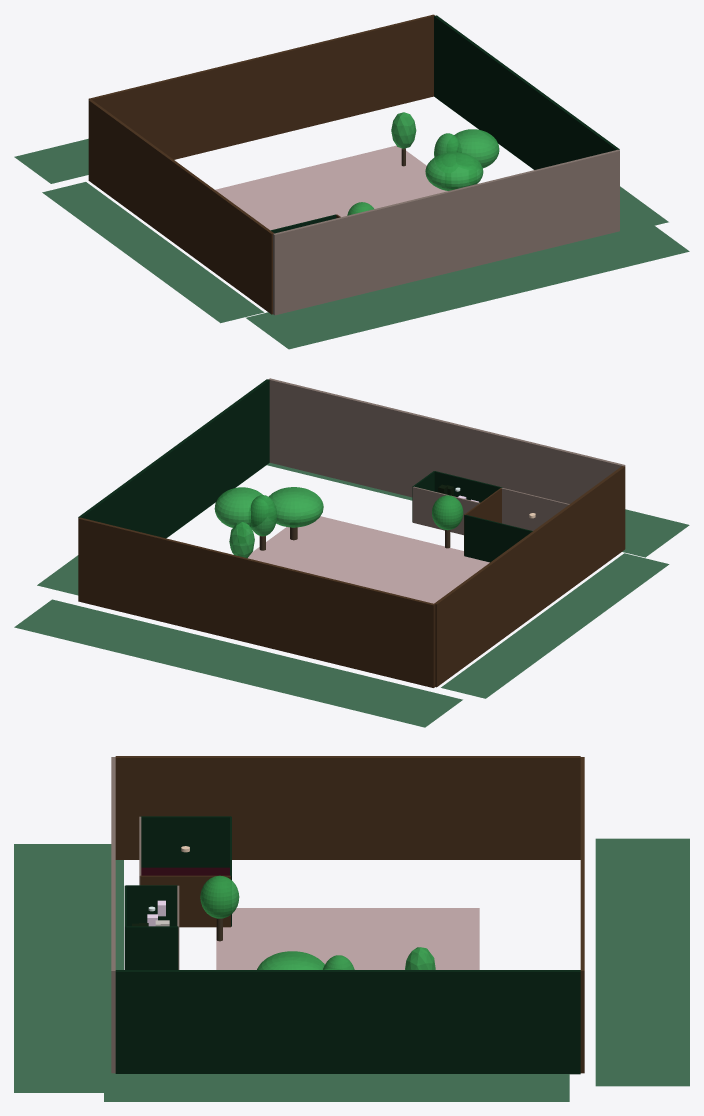
Rendered from ultra_varied_d2b055c2-0c6f-40ce-9988-e74437583a65.obj.
3 renders of one model, top to bottom at view 1: azimuth 30°, elevation 25°; view 2: azimuth 150°, elevation 25°; view 3: azimuth 270°, elevation 25°, orthographic. The views are drawn at different scales.
Parts seen in each view (by area): view 1: ExteriorWall_South, ExteriorWall_North, ExteriorWall_West, Grass_Front, ExteriorWall_East, Foundation, Grass_Left, Grass_Back, Crown_3, Crown_4, Grass_Right, Crown_2 (+1 smaller); view 2: ExteriorWall_North, ExteriorWall_South, ExteriorWall_West, Grass_Back, ExteriorWall_East, Foundation, Grass_Left, Grass_Front, NorthWall_Living_Room, Crown_3, SouthWall_Living_Room, Crown_4 (+7 smaller); view 3: ExteriorWall_East, ExteriorWall_West, Grass_Front, Grass_Back, Foundation, Grass_Right, WestWall_Living_Room, EastWall_Kitchen, EastWall_Living_Room, WestWall_Kitchen, ExteriorWall_South, ExteriorWall_North (+4 smaller).
Part boxes in pixels (x1,y1,x2,y2): ExteriorWall_South: [273, 149, 619, 315]; ExteriorWall_North: [88, 14, 434, 159]; ExteriorWall_West: [88, 99, 274, 314]; Grass_Front: [246, 226, 689, 349]; ExteriorWall_East: [434, 15, 619, 169]; Foundation: [215, 145, 447, 230]; Grass_Left: [42, 182, 264, 323]; Grass_Back: [14, 138, 88, 183]; Crown_3: [425, 152, 483, 190]; Crown_4: [447, 129, 499, 168]; Grass_Right: [442, 102, 668, 233]; Crown_2: [391, 112, 416, 148]; ExteriorWall_North: [78, 517, 435, 687]; ExteriorWall_South: [268, 378, 625, 503]; ExteriorWall_West: [434, 466, 625, 687]; Grass_Back: [14, 599, 462, 727]; ExteriorWall_East: [78, 379, 269, 538]; Foundation: [248, 516, 489, 603]; Grass_Left: [441, 553, 669, 698]; Grass_Front: [267, 463, 689, 557]; NorthWall_Living_Room: [464, 515, 532, 562]; Crown_3: [268, 487, 323, 527]; SouthWall_Living_Room: [501, 487, 569, 530]; Crown_4: [214, 487, 267, 527]; ExteriorWall_East: [115, 970, 580, 1074]; ExteriorWall_West: [115, 756, 580, 859]; Grass_Front: [14, 844, 123, 1092]; Grass_Back: [595, 838, 689, 1086]; Foundation: [216, 908, 479, 969]; Grass_Right: [104, 1072, 569, 1101]; WestWall_Living_Room: [140, 816, 230, 867]; EastWall_Kitchen: [125, 926, 178, 969]; EastWall_Living_Room: [140, 875, 230, 927]; WestWall_Kitchen: [126, 885, 177, 926]; ExteriorWall_South: [111, 757, 115, 1073]; ExteriorWall_North: [580, 757, 584, 1073].
Size of the model in its own units: 41.94 by 7.43 by 43.92.
